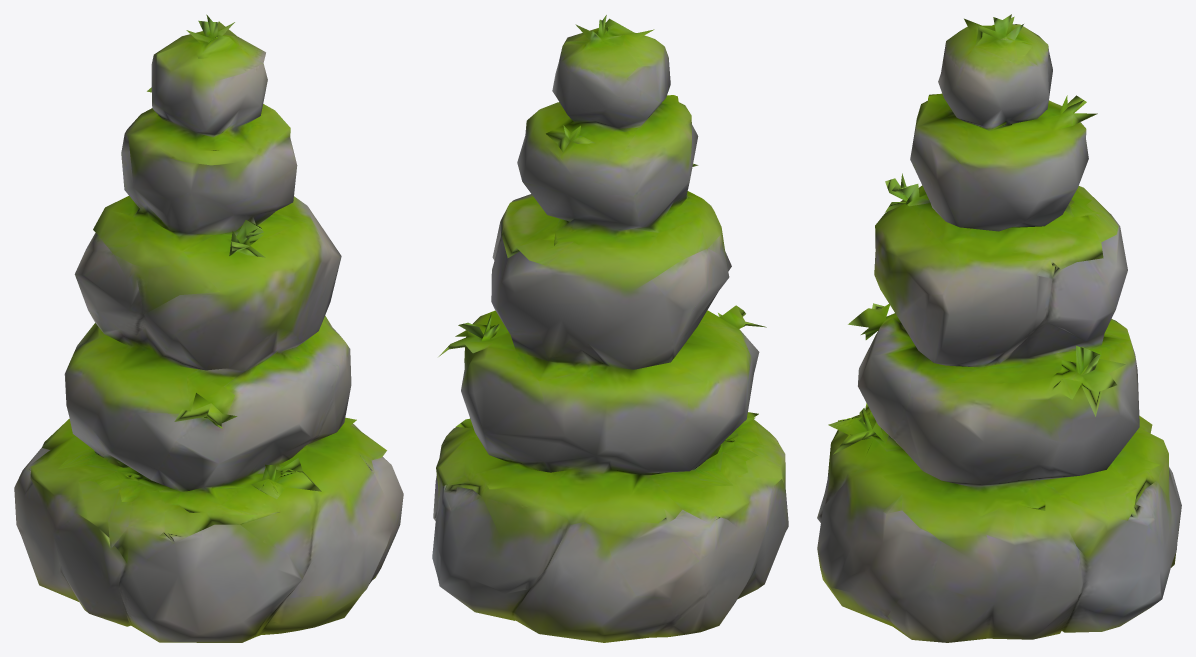
Rendered from pillar.glb.
The picture shows the model from 3 angles, left to right: view 1: azimuth 30°, elevation 25°; view 2: azimuth 150°, elevation 25°; view 3: azimuth 270°, elevation 25°; orthographic projection.
Visible parts, largest first — view 1: tripo_node_b90349eb-eee5-42d0-a9f8-9eed582c6ae6; view 2: tripo_node_b90349eb-eee5-42d0-a9f8-9eed582c6ae6; view 3: tripo_node_b90349eb-eee5-42d0-a9f8-9eed582c6ae6.
Boxes of the visible parts, box(x1,y1,x2,y2) form: tripo_node_b90349eb-eee5-42d0-a9f8-9eed582c6ae6: box(14, 14, 403, 642); tripo_node_b90349eb-eee5-42d0-a9f8-9eed582c6ae6: box(432, 15, 788, 642); tripo_node_b90349eb-eee5-42d0-a9f8-9eed582c6ae6: box(817, 14, 1181, 642).
Bounding box in the file's own units: 0.5798 × 1 × 0.5789.
Materials: 1 (1 with a texture image).
